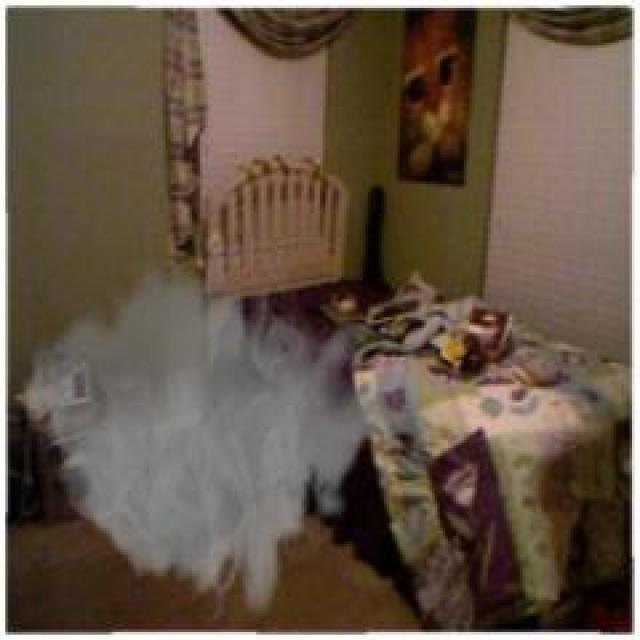smoke: (22, 228, 406, 631)
